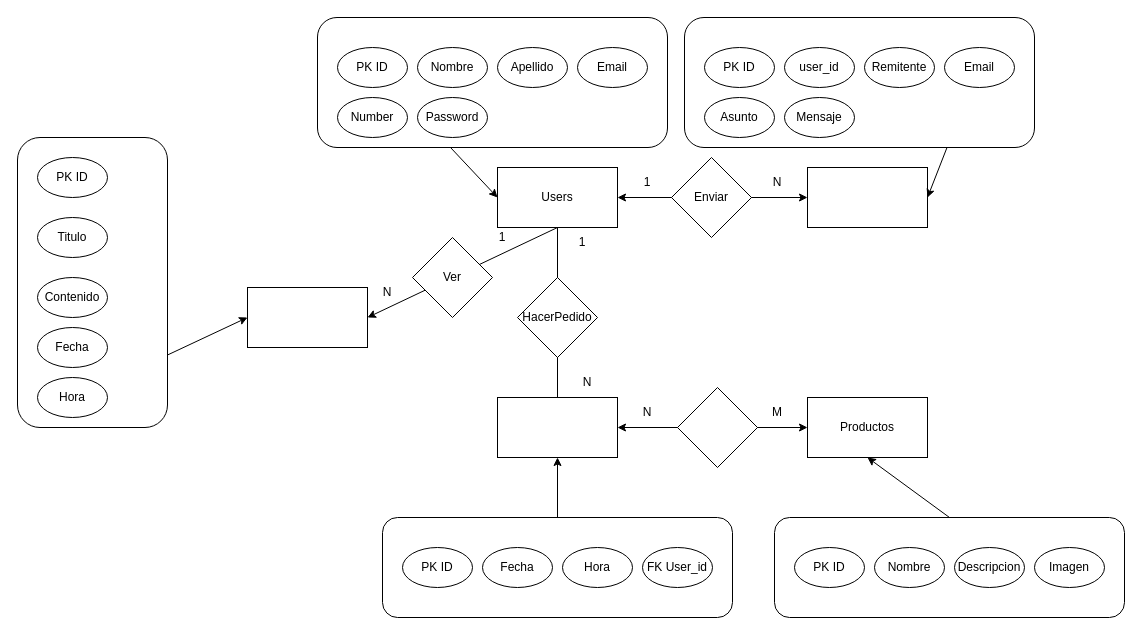
This 1142x635 diagram has some shape labels left out. The shapes that lost their labels are listed below. From the top down, each one's box as (x1, y1, x2, y2) in pixels, then its label:
(806, 166, 928, 228): Mensajes
(246, 286, 368, 348): Noticia
(496, 396, 618, 458): Pedidos
